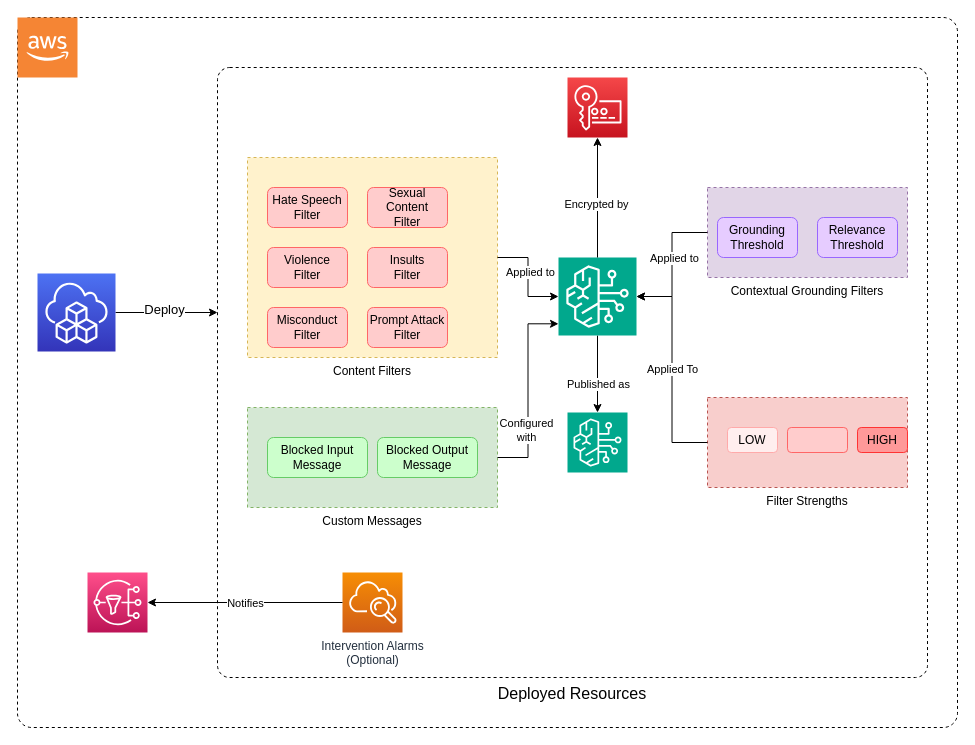
The diagram is 975 pixels wide and 745 high, and some of its shapes have lost their labels. The shapes that lost their labels are listed below. From the top down, each one's centre as x and y in pixels, then its label:
At pixel 47 47: "Deployment/Target Account".
At pixel 597 107: "KMS Key".
At pixel 76 312: "MDAA/CDK".
At pixel 597 296: "Bedrock Guardrail".
At pixel 597 442: "Guardrail Version (Optional)".
At pixel 817 439: "MEDIUM".
At pixel 117 602: "Notification Topic (alarmSettings)".
